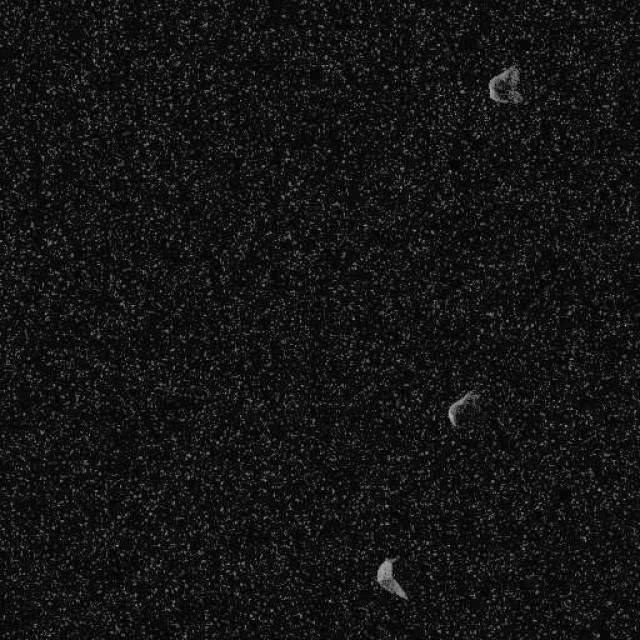D2: (375, 555, 409, 601), (486, 64, 524, 105), (446, 389, 480, 429)
